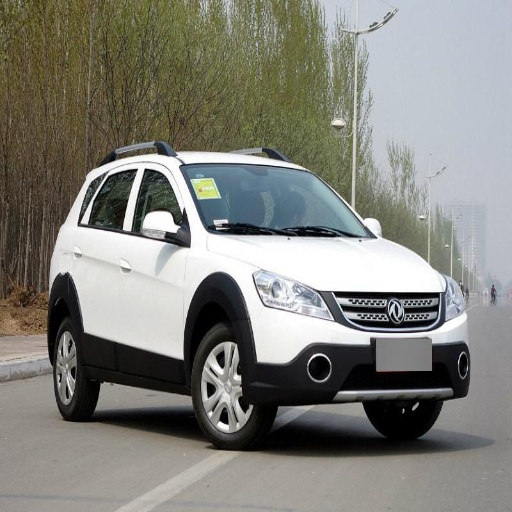front_bumper: (251, 290, 469, 402)
front_right_door: (118, 164, 191, 377)
front_right_light: (255, 271, 335, 320)
hood: (213, 234, 447, 292)
